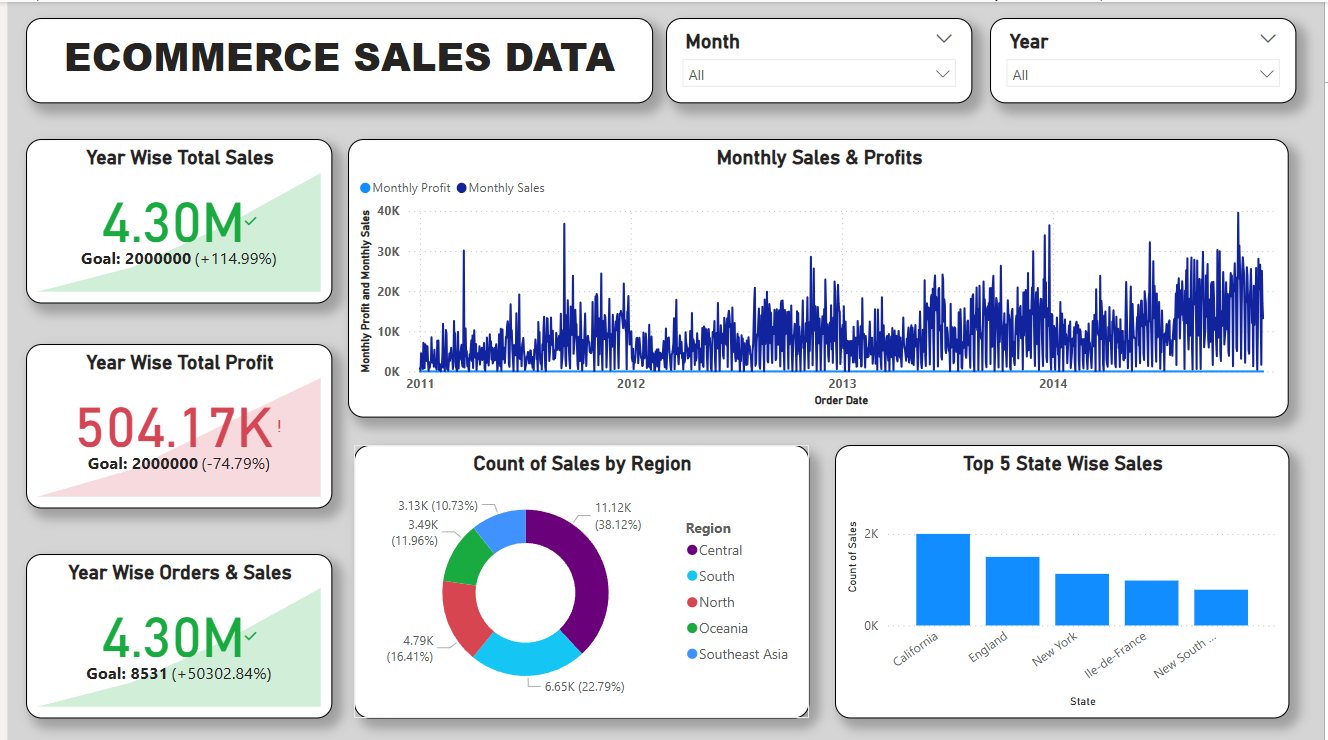

The dashboard page shown, as its layout file describes it:
{"tool":"powerbi","page":{"name":"Ecommerce Sales Data","canvas":[1280,720],"ordinal":0},"visuals":[{"type":"textbox","box":[17.5,15.6,609.8,82.7],"z":0},{"type":"kpi","title":"Year Wise Total Sales","fields":{"Indicator":["Orders.Total Sales"],"Goal":["Orders.Target"],"TrendLine":["Orders.Year"]},"box":[17.5,133.3,297.6,159.5],"z":1},{"type":"slicer","fields":{"Values":["Orders.Month"]},"box":[640,15.6,297.6,82.7],"z":2},{"type":"slicer","fields":{"Values":["Orders.Year"]},"box":[955.1,15.6,297.6,82.7],"z":3},{"type":"kpi","title":"Year Wise Total Profit","fields":{"Goal":["Orders.Target"],"TrendLine":["Orders.Year"],"Indicator":["Sum(Orders.Profit)"]},"box":[17.5,332.6,297.6,159.5],"z":4},{"type":"kpi","title":"Year Wise Orders & Sales","fields":{"TrendLine":["Orders.Year"],"Indicator":["Orders.Total Sales"],"Goal":["Orders.Total Orders"]},"box":[17.5,536.9,297.6,159.5],"z":5},{"type":"lineChart","title":"Monthly Sales & Profits","fields":{"Category":["Orders.Order Date Hierarchy.Order Date","Orders.Order Date Hierarchy.Day","Orders.Order Date Hierarchy.Month","Orders.Order Date Hierarchy.Quarter","Orders.Order Date Hierarchy.Year"],"Y":["Orders.Monthly Profit","Orders.Monthly Sales"]},"box":[330.7,133.3,915.3,271.4],"z":6},{"type":"donutChart","fields":{"Category":["Orders.Region"],"Y":["CountNonNull(Orders.Sales)"]},"box":[336.5,430.9,442.6,265.5],"z":7},{"type":"columnChart","title":"Top 5 State Wise Sales","fields":{"Category":["Orders.State"],"Y":["CountNonNull(Orders.Sales)"]},"box":[804.4,430.9,441.6,265.5],"z":8}]}

Visuals, with their boxes in screenshot pixels (x1, y1, x2, y2), scaled from the page's 1280x720 canvas onto the 1328x740 screenshot:
textbox: bbox=(18, 16, 651, 101)
"Year Wise Total Sales" kpi: bbox=(18, 137, 327, 301)
slicer - Orders.Month: bbox=(664, 16, 973, 101)
slicer - Orders.Year: bbox=(991, 16, 1300, 101)
"Year Wise Total Profit" kpi: bbox=(18, 342, 327, 506)
"Year Wise Orders & Sales" kpi: bbox=(18, 552, 327, 716)
"Monthly Sales & Profits" lineChart: bbox=(343, 137, 1293, 416)
donutChart - Orders.Region x CountNonNull(Orders.Sales): bbox=(349, 443, 808, 716)
"Top 5 State Wise Sales" columnChart: bbox=(835, 443, 1293, 716)
